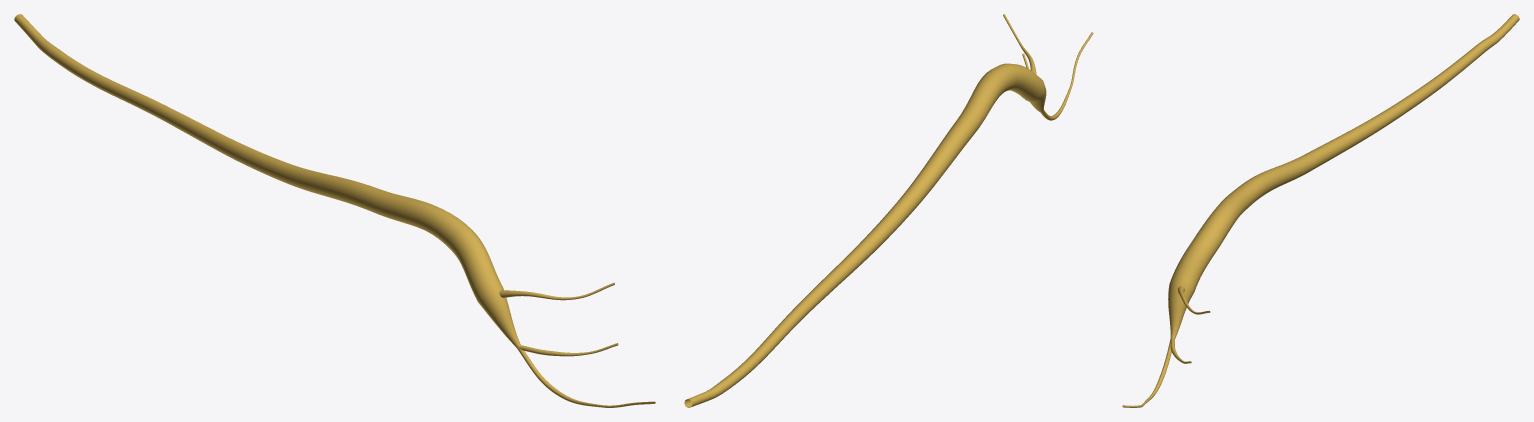
3 renders of one model, left to right at view 1: azimuth 30°, elevation 25°; view 2: azimuth 150°, elevation 25°; view 3: azimuth 330°, elevation 25°, orthographic. The views are drawn at different scales.
Visible parts, largest first — view 1: 右侧坐骨神经; view 2: 右侧坐骨神经; view 3: 右侧坐骨神经.
Part boxes in pixels (x1,y1,x2,y2): 右侧坐骨神经: (14,14,655,407); 右侧坐骨神经: (684,14,1093,407); 右侧坐骨神经: (1122,14,1519,407).
Size of the model in its own units: 0.0936 by 0.0818 by 0.6459.
